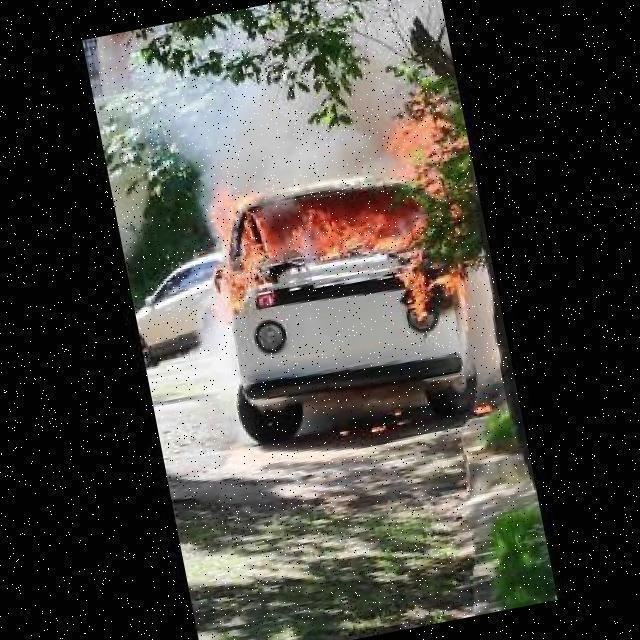Fire: (204, 145, 436, 313), (380, 89, 476, 189), (398, 250, 474, 326), (474, 402, 494, 413), (372, 424, 388, 432)
Smoke: (168, 62, 392, 208)
